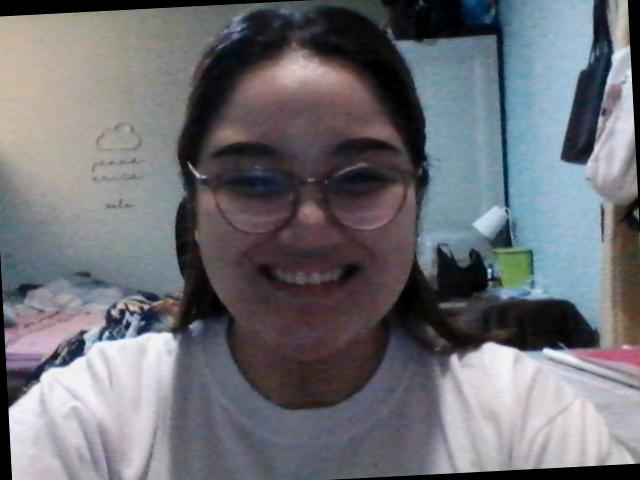senang: (191, 63, 438, 371)
